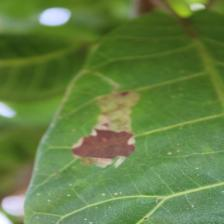leaf miner: (22, 0, 224, 224), (70, 88, 141, 168), (71, 127, 136, 168)
